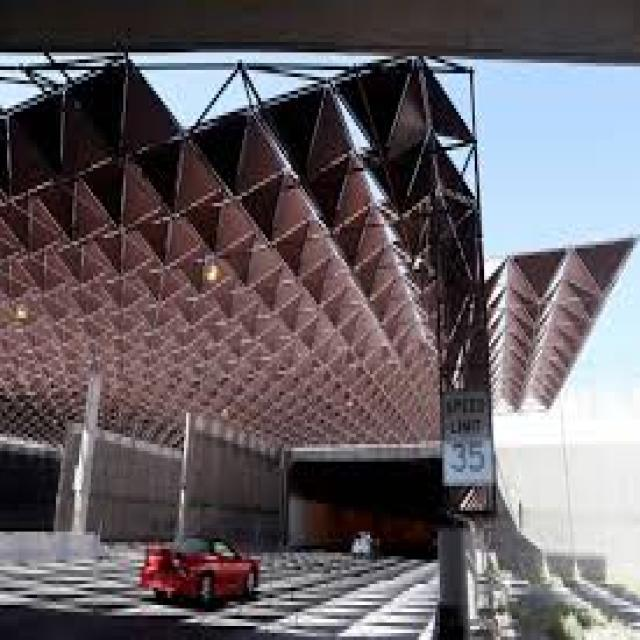speedLimit35: (442, 392, 492, 486)
